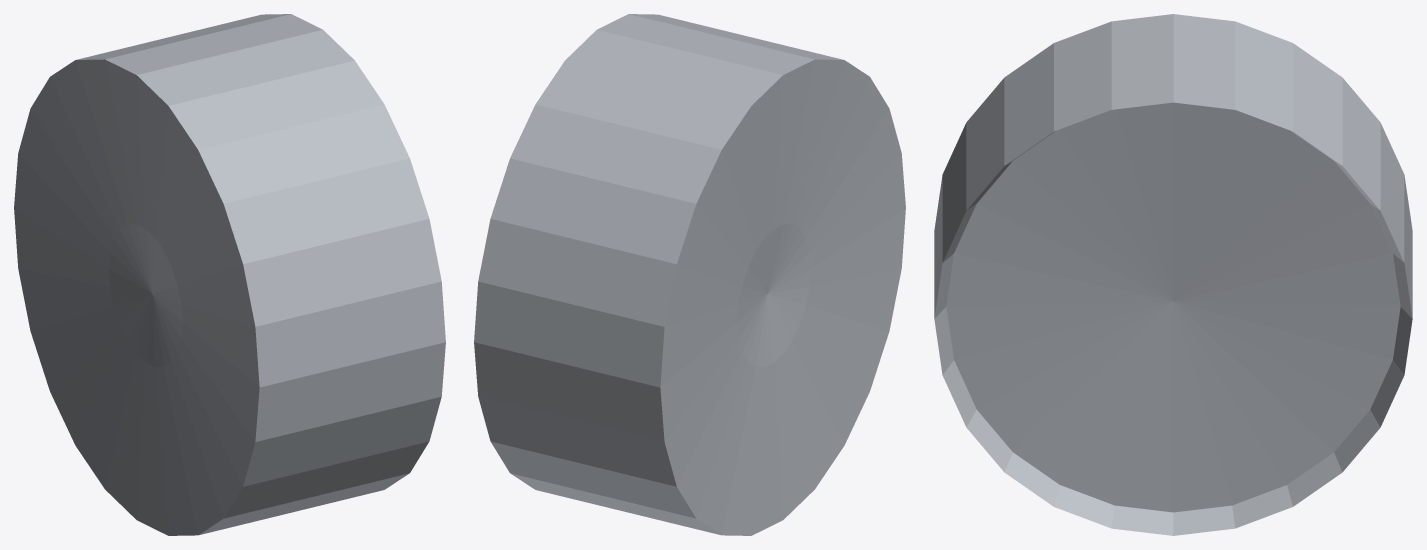
Rendered from wheel_FL.glb.
3 renders of one model, left to right at view 1: azimuth 30°, elevation 25°; view 2: azimuth 150°, elevation 25°; view 3: azimuth 270°, elevation 25°, orthographic. The views are drawn at different scales.
Visible parts, largest first — view 1: wheel_FL; view 2: wheel_FL; view 3: wheel_FL.
Boxes of the visible parts, x1,y1,x2,y2 form: wheel_FL: (14,14,445,535); wheel_FL: (474,14,905,535); wheel_FL: (934,14,1412,535).
Bounding box in the file's own units: 0.2226 × 0.508 × 0.508.
Materials: 1 (1 with a texture image).
